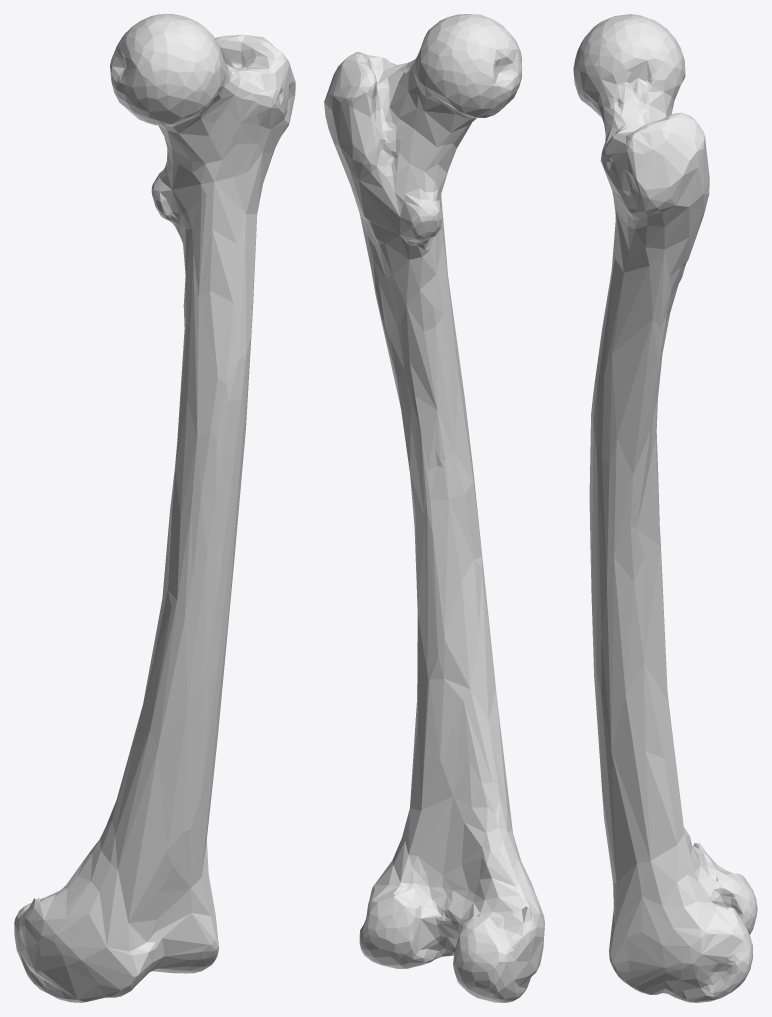
The model's file is femur.glb.
The picture shows the model from 3 angles, left to right: view 1: azimuth 30°, elevation 25°; view 2: azimuth 150°, elevation 25°; view 3: azimuth 270°, elevation 25°; orthographic projection. The views are drawn at different scales.
Parts seen in each view (by area): view 1: geometry_0; view 2: geometry_0; view 3: geometry_0.
Boxes of the visible parts, x1,y1,x2,y2 form: geometry_0: (14,14,295,1002); geometry_0: (324,14,544,1002); geometry_0: (573,14,757,1002).
Size of the model in its own units: 0.5188 by 2.02 by 0.3476.
Materials: 1 (1 with a texture image).
